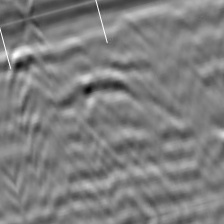Utility: (74, 72, 140, 110), (6, 36, 52, 89)
